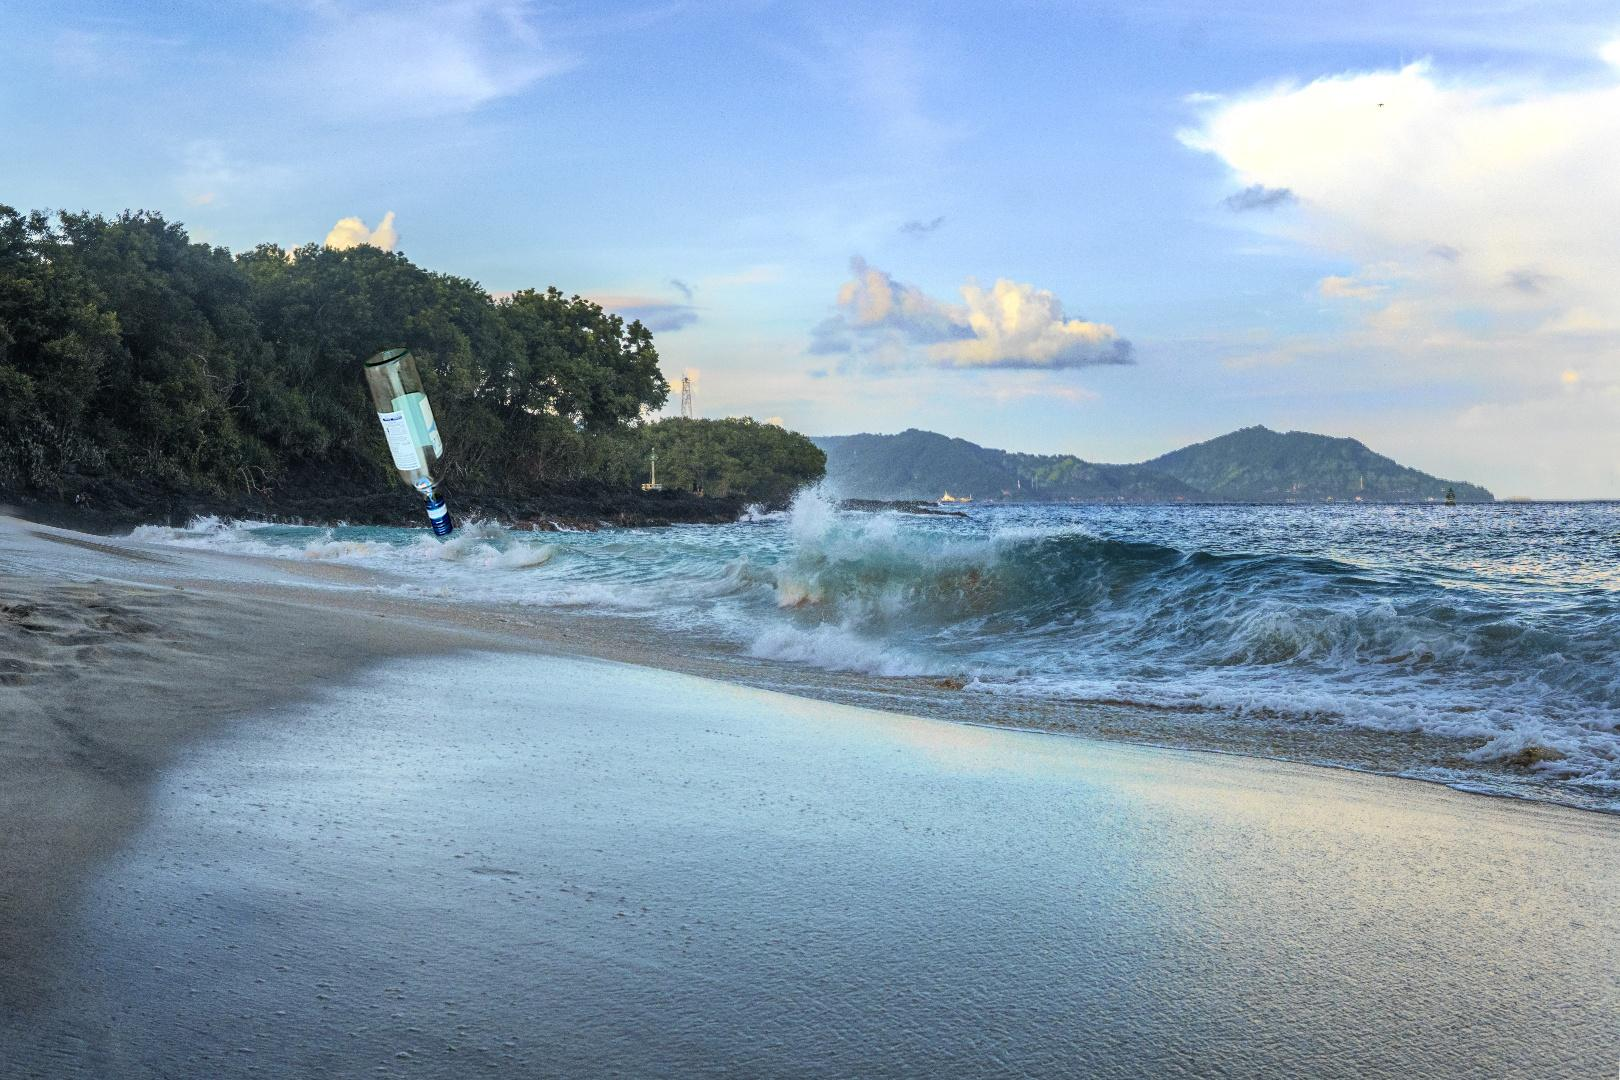glass: (359, 339, 457, 542)
